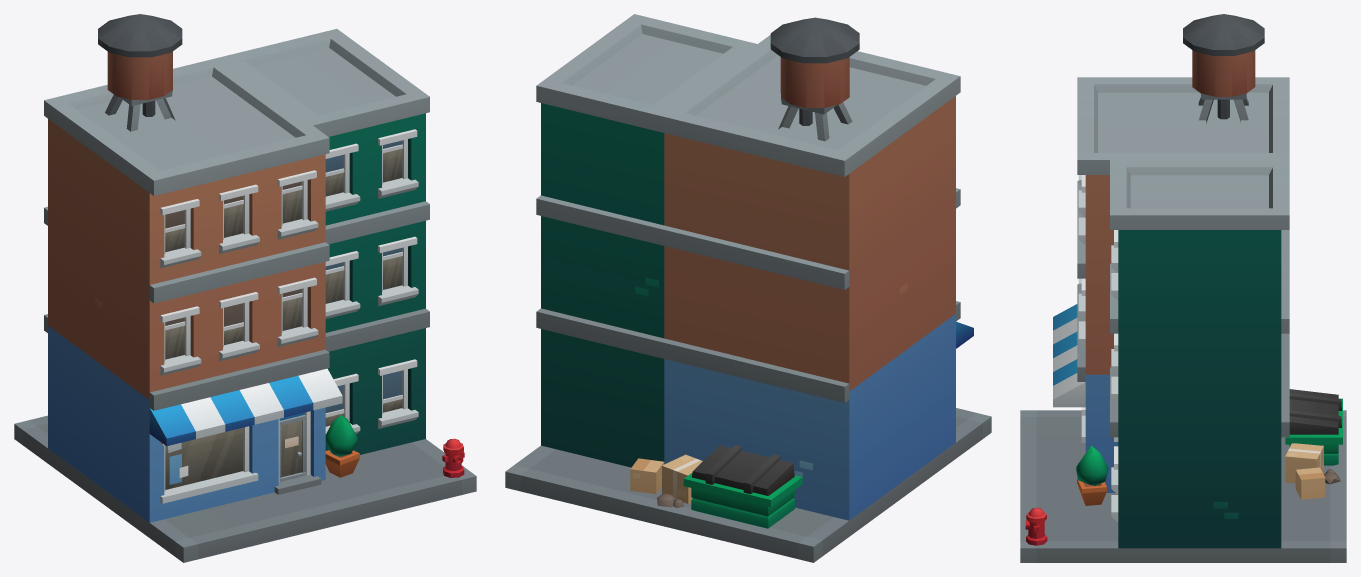
Rendered from bld-g.glb.
3 renders of one model, left to right at view 1: azimuth 30°, elevation 25°; view 2: azimuth 150°, elevation 25°; view 3: azimuth 270°, elevation 25°, orthographic. The views are drawn at different scales.
Visible parts, largest first — view 1: building_G; view 2: building_G; view 3: building_G.
Part boxes in pixels (x1,y1,x2,y2): building_G: (14, 14, 476, 562); building_G: (505, 14, 991, 562); building_G: (1020, 14, 1346, 562).
Bounding box in the file's own units: 2.01 × 2.98 × 2.
Materials: 1 (1 with a texture image).
